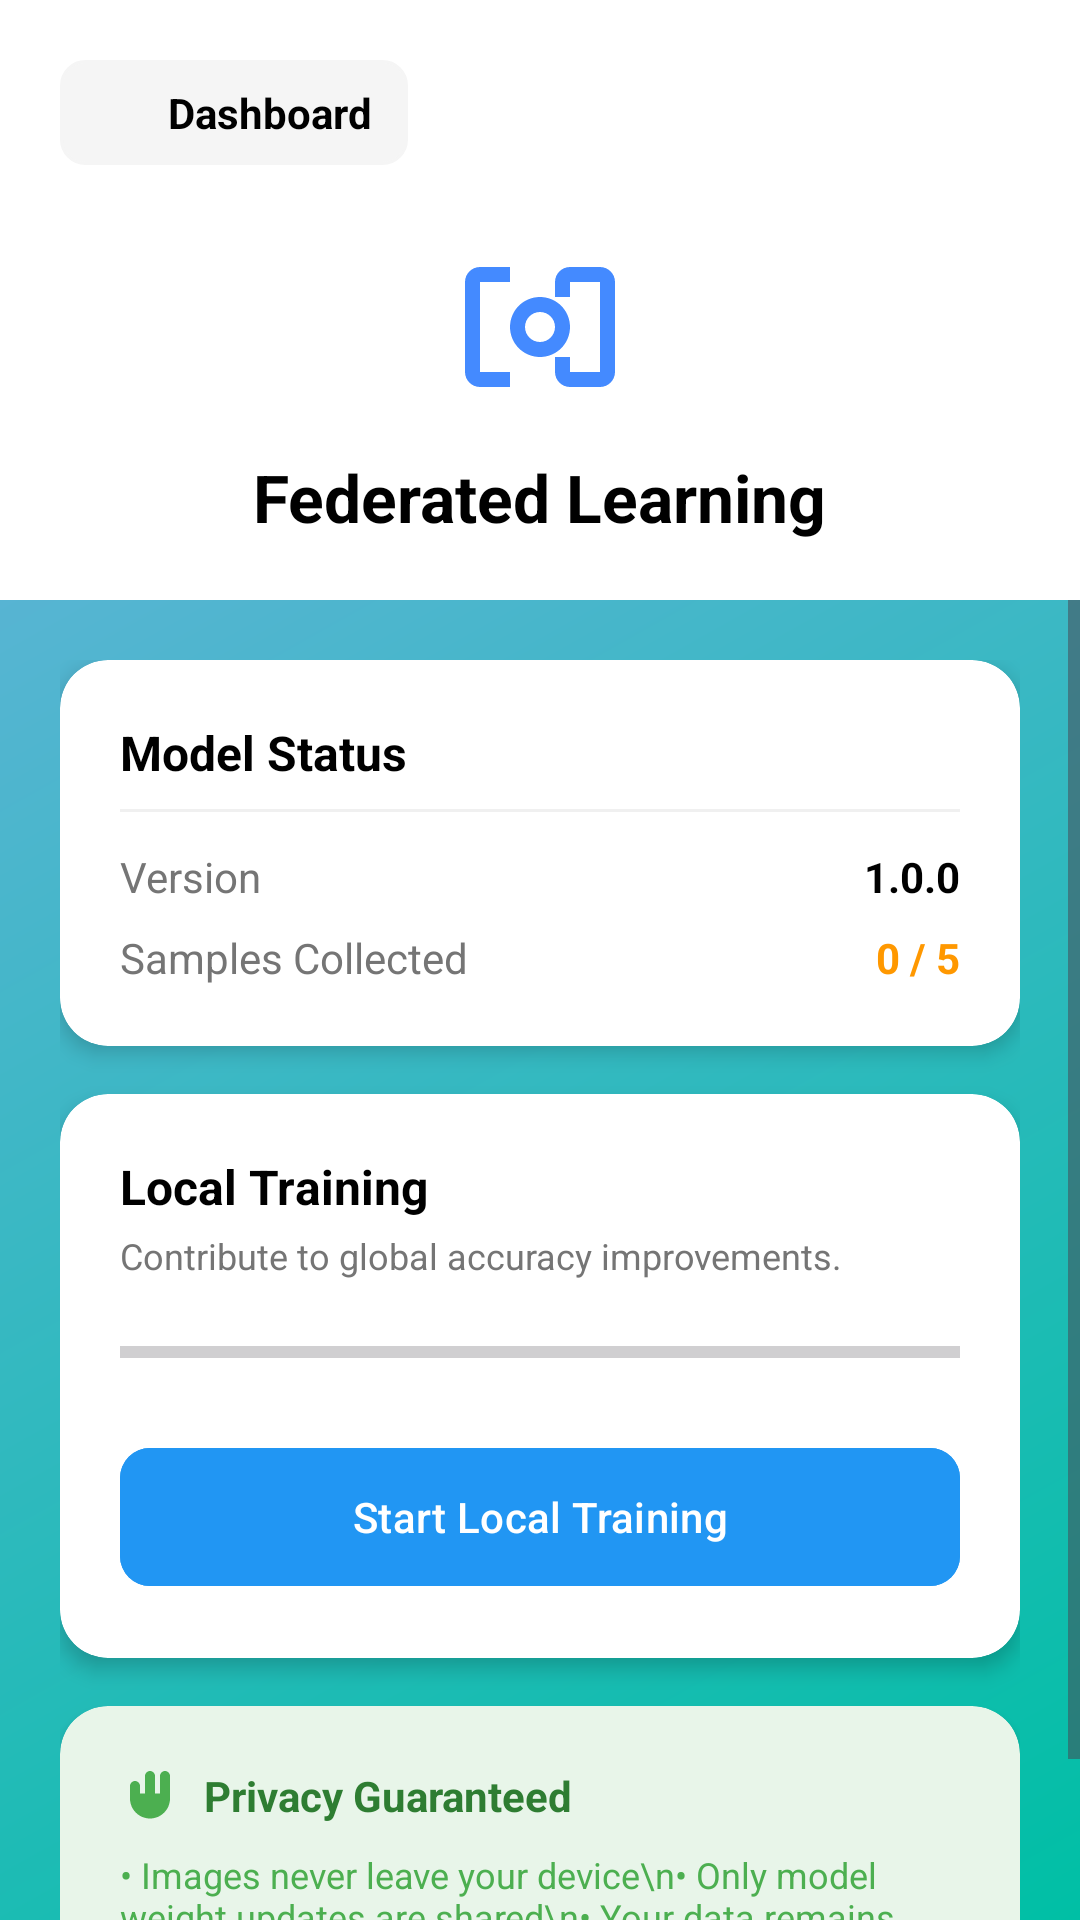

Icons on this 1080w x 1920h Android screen, each with the point to tap as (x,y):
hand: (150,1795)
scan: (540,327)
